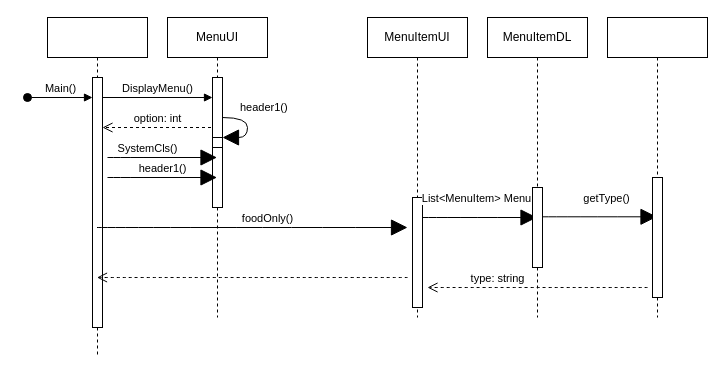
Some shapes in this 725 by 375 pixel diagram are drawn without their labels. Here are the shapes that lost their labels. From the top down, the box of each, then its label:
(46, 16, 148, 358): Program
(606, 16, 708, 318): MenuItem
